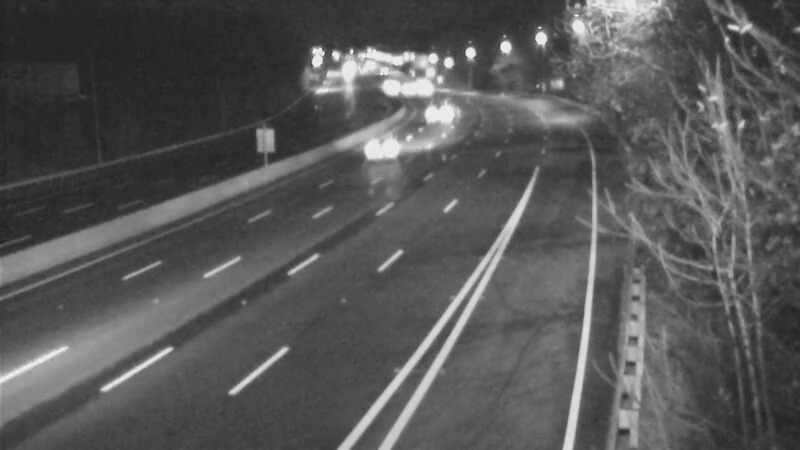vehicle: (364, 64, 414, 114), (403, 63, 453, 113), (384, 65, 434, 115), (410, 89, 460, 139), (360, 119, 410, 169)
